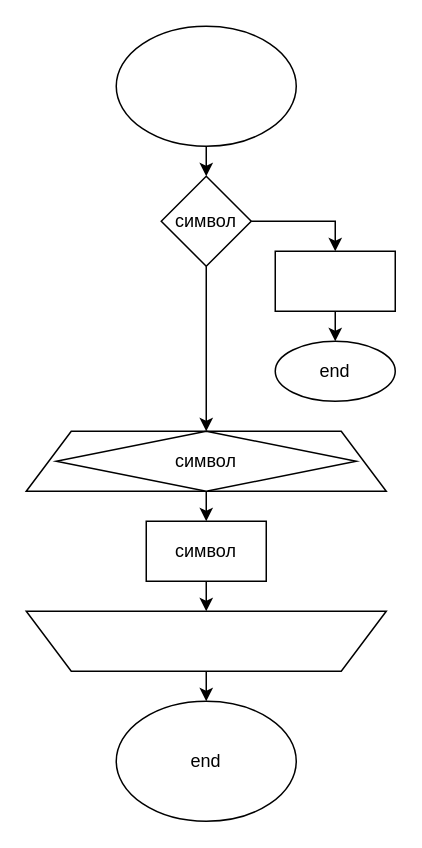
Image size: 422x848. Some labels were removed from this diagram. The centre of each missing label's shape, as x and y in pixels:
begin: point 205,85
Ошибка: point 334,280
